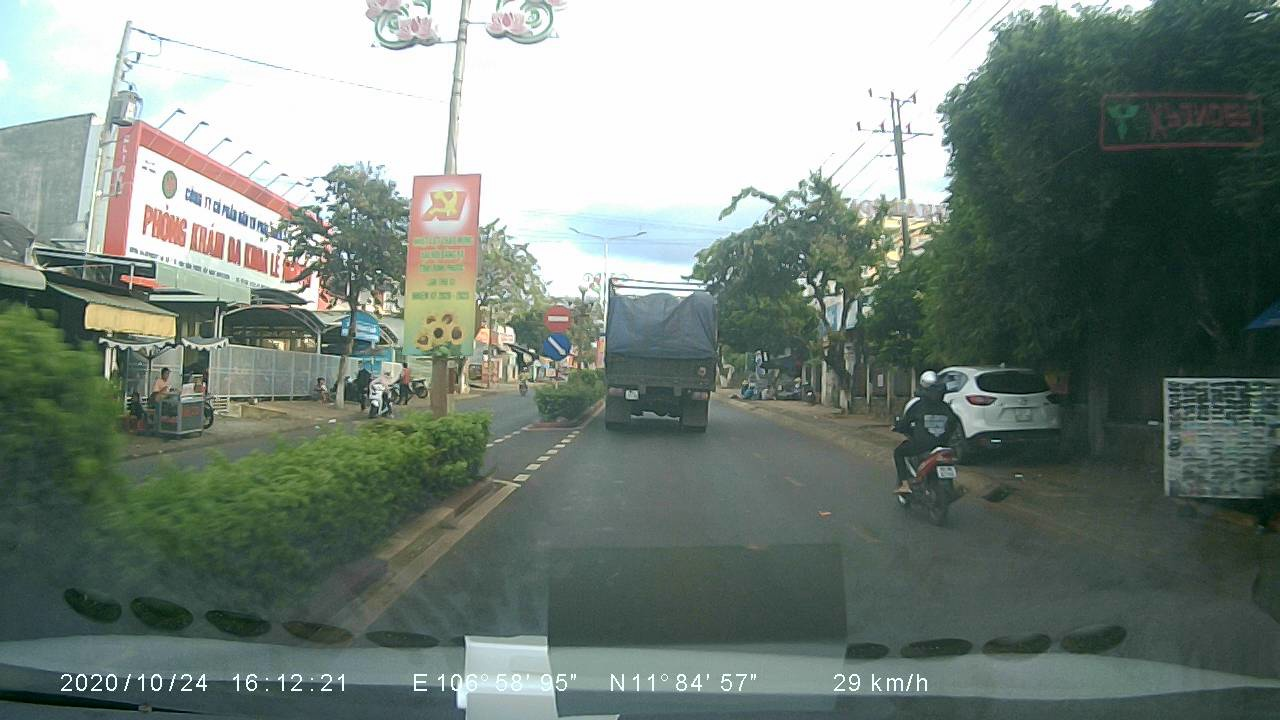Cam di nguoc chieu: (539, 303, 570, 333)
Huong di phai re phai: (539, 333, 570, 361)
